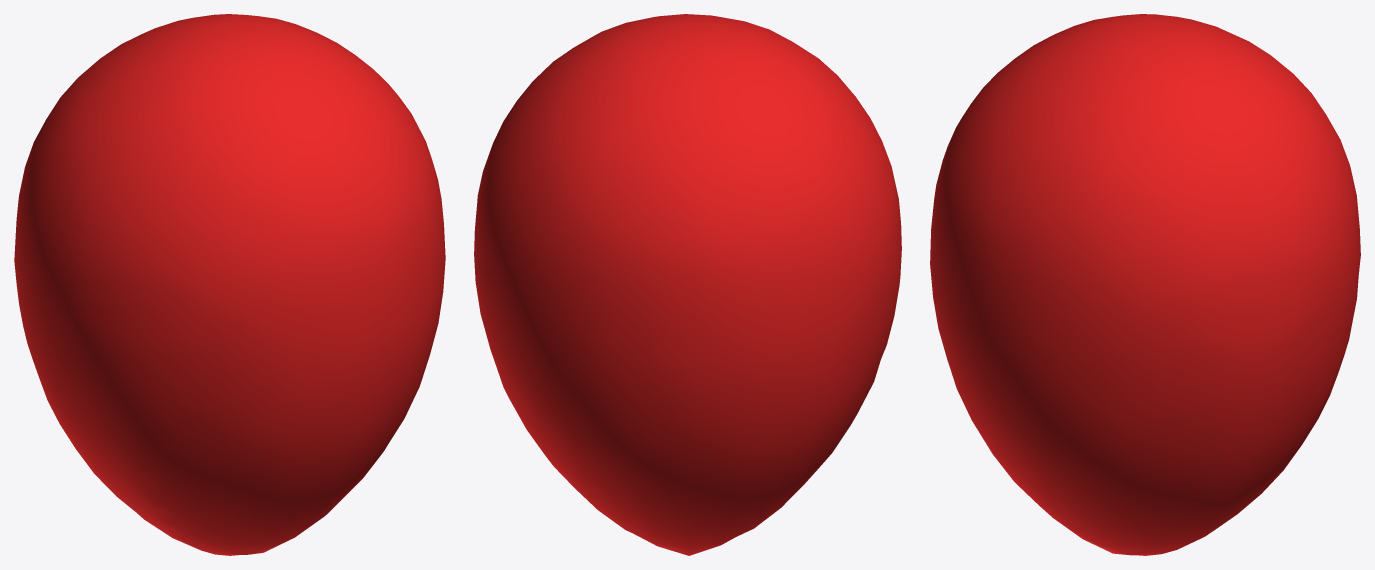
Rendered from baru-n.fbx.
The picture shows the model from 3 angles, left to right: view 1: azimuth 30°, elevation 25°; view 2: azimuth 150°, elevation 25°; view 3: azimuth 270°, elevation 25°; orthographic projection.
Parts seen in each view (by area): view 1: pPlatonic1; view 2: pPlatonic1; view 3: pPlatonic1.
Part boxes in pixels (left/top/right/bottom): pPlatonic1: left=14, top=14, right=445, bottom=555; pPlatonic1: left=474, top=14, right=901, bottom=555; pPlatonic1: left=930, top=14, right=1360, bottom=555.
Bounding box in the file's own units: 2.02 × 2.7 × 2.02.
